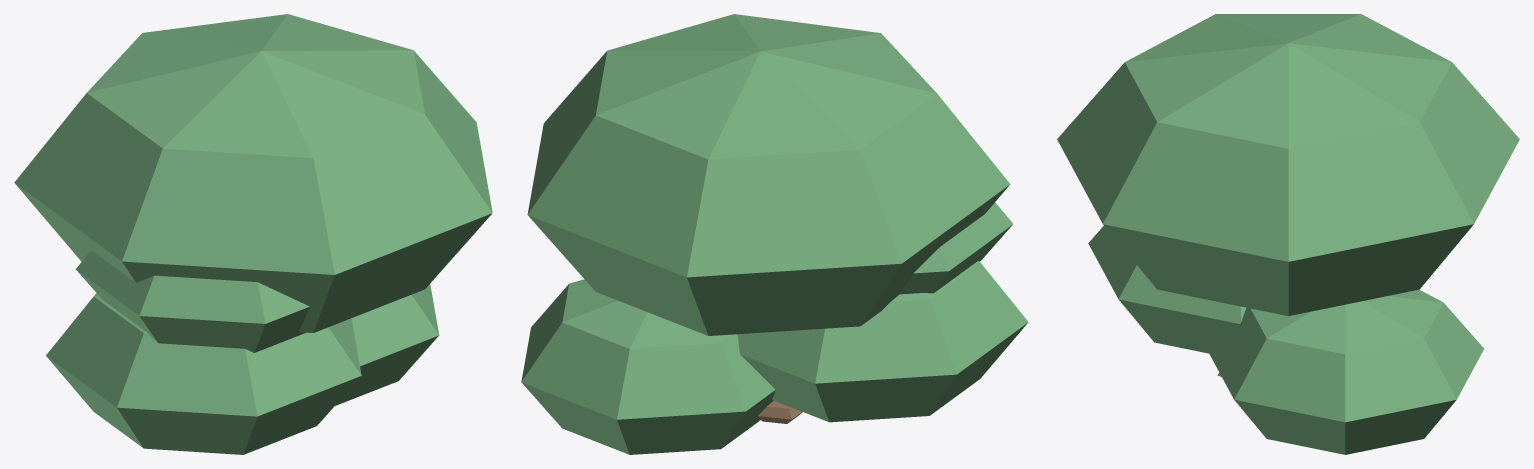
Rendered from town_oak_tree.glb.
The picture shows the model from 3 angles, left to right: view 1: azimuth 30°, elevation 25°; view 2: azimuth 150°, elevation 25°; view 3: azimuth 270°, elevation 25°; orthographic projection. The views are drawn at different scales.
Parts seen in each view (by area): view 1: world; view 2: world; view 3: world.
Part boxes in pixels (x1,y1,x2,y2): world: (14, 14, 492, 454); world: (521, 14, 1028, 454); world: (1057, 14, 1519, 454).
Bounding box in the file's own units: 2 × 1.7 × 2.
